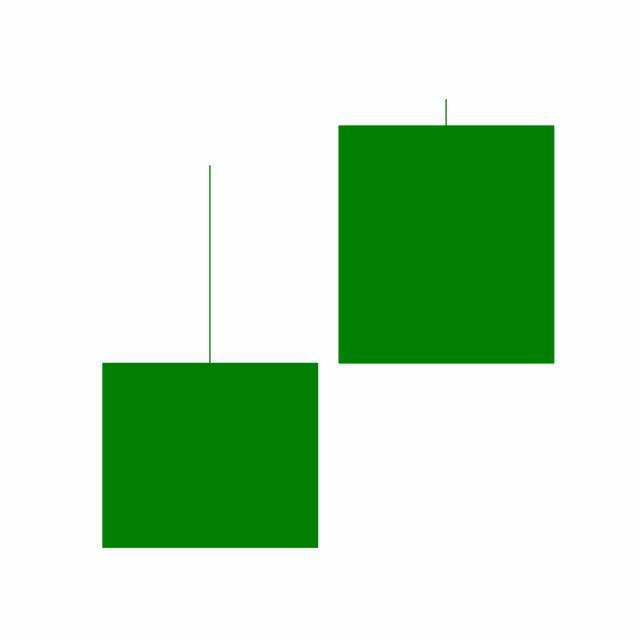Marubozu: (328, 97, 566, 367)
